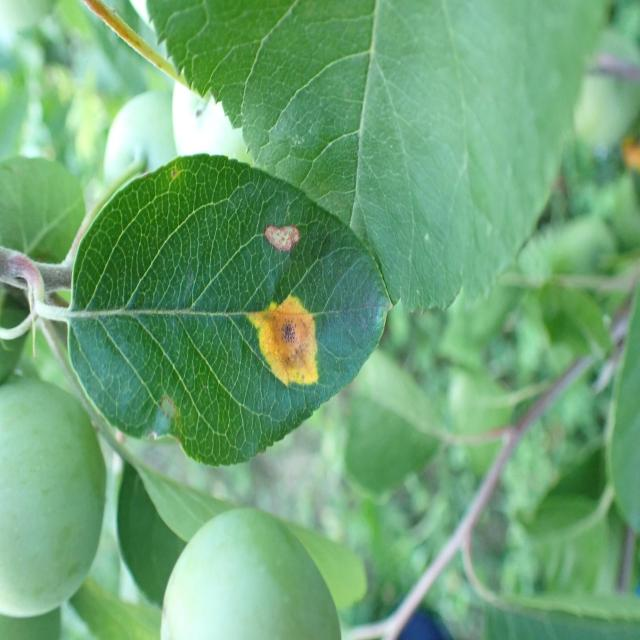rust: (66, 152, 396, 468)
